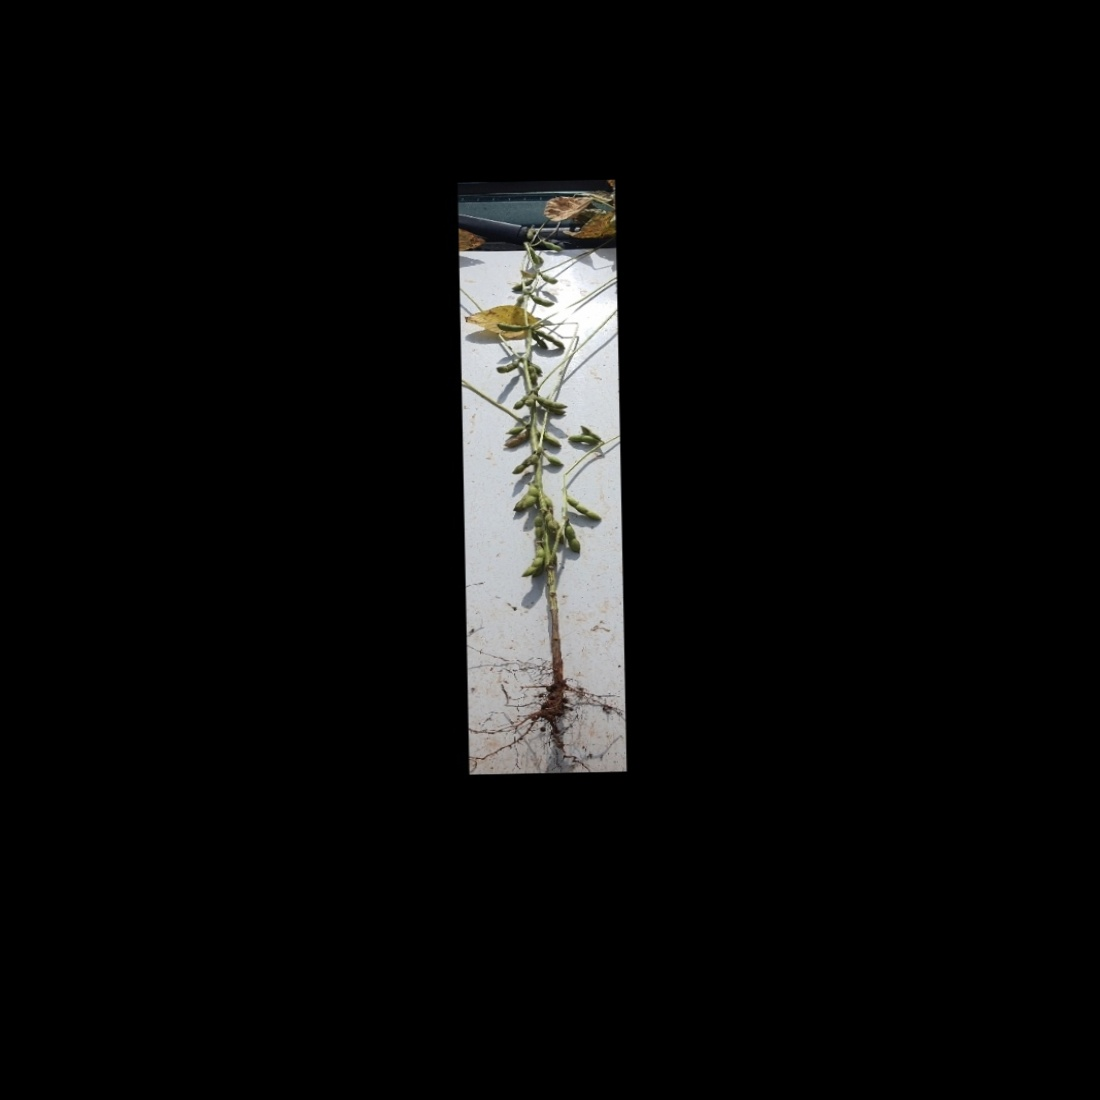pod: (565, 495, 603, 523), (519, 545, 546, 578), (563, 522, 583, 555), (538, 328, 566, 351), (536, 395, 568, 410), (529, 292, 556, 308), (565, 433, 598, 446), (541, 431, 562, 450), (493, 360, 521, 373), (495, 321, 528, 332), (543, 452, 564, 468), (541, 239, 564, 253), (532, 515, 543, 541), (527, 364, 539, 386), (539, 273, 559, 286), (522, 225, 536, 240), (529, 248, 540, 265)
soy: (470, 218, 611, 739)
